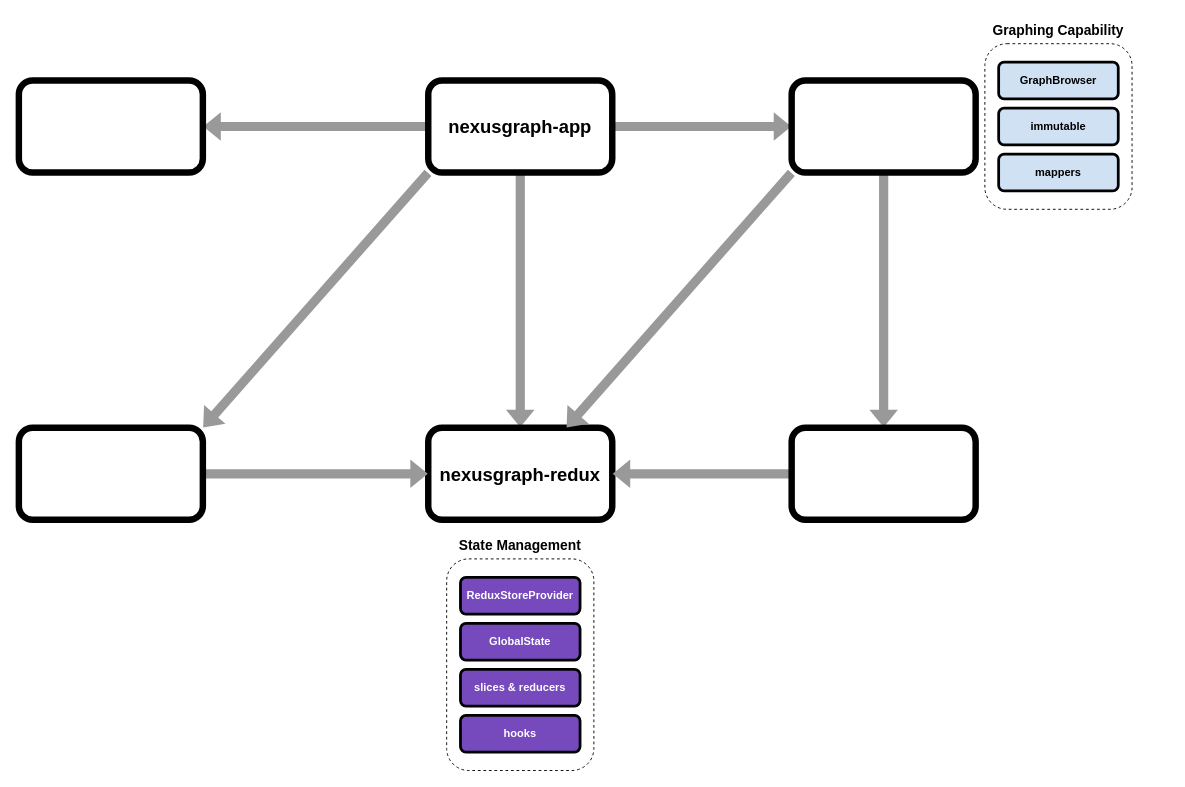
The diagram is 1185 pixels wide and 787 high, and some of its shapes have lost their labels. The centre of each missing label's shape, as x and y in pixels:
nexusgraph-db: (x=883, y=473)
nexusgraph-graph: (x=883, y=126)
nexusgraph-nlp: (x=110, y=473)
nexusgraph-oauth: (x=110, y=126)
